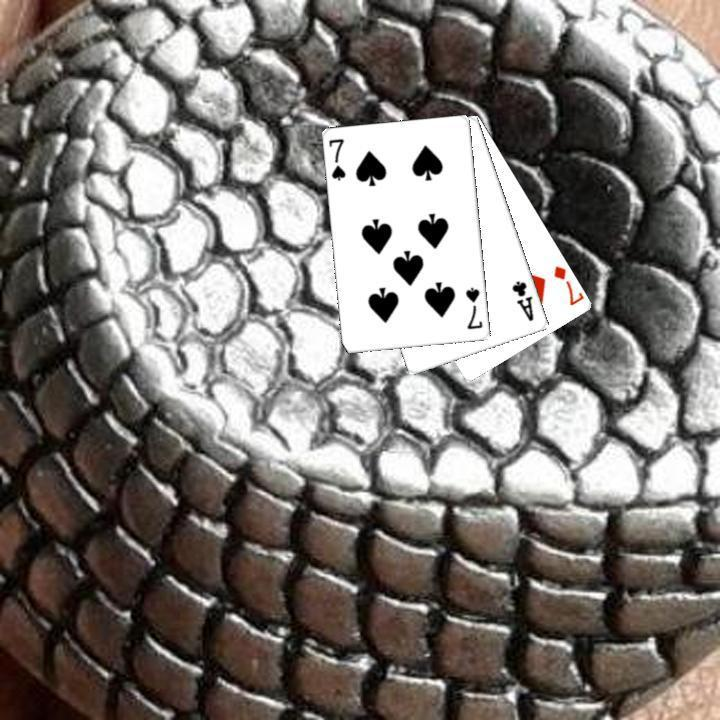7: (550, 261, 585, 308), (462, 283, 485, 331), (325, 135, 348, 183)
A: (508, 277, 536, 323)
